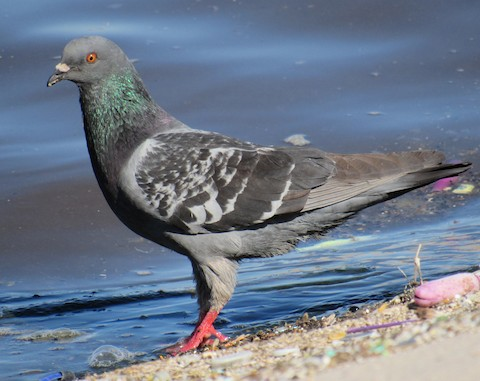pigeon: (43, 30, 480, 358)
